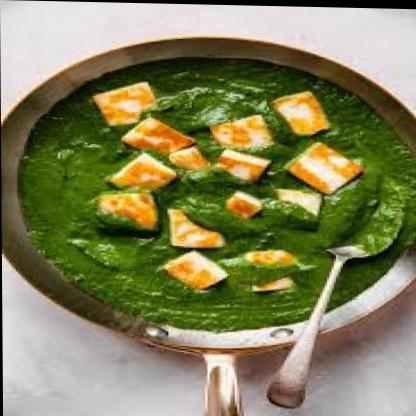palak_paneer: (18, 52, 416, 333)
